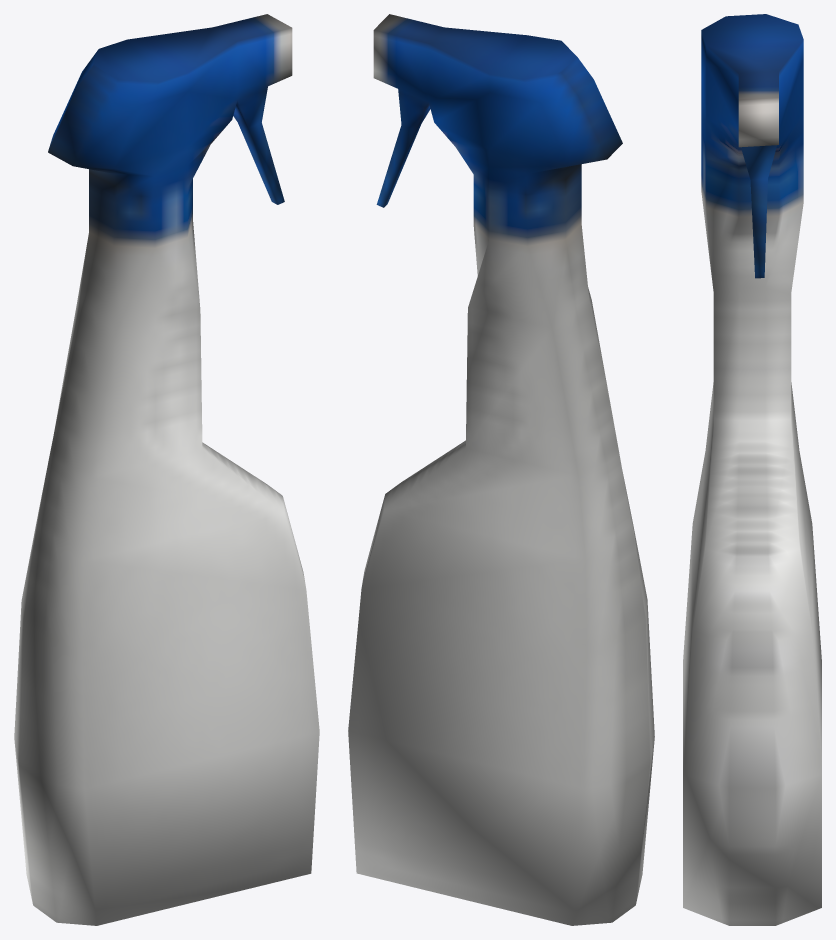
Rendered from Cleaning_spray_2.fbx.
3 renders of one model, left to right at view 1: azimuth 30°, elevation 25°; view 2: azimuth 150°, elevation 25°; view 3: azimuth 270°, elevation 25°, orthographic.
Parts seen in each view (by area): view 1: Cleaning_spray_2; view 2: Cleaning_spray_2; view 3: Cleaning_spray_2.
Boxes of the visible parts, x1,y1,x2,y2 form: Cleaning_spray_2: [14, 14, 319, 925]; Cleaning_spray_2: [348, 14, 654, 925]; Cleaning_spray_2: [683, 14, 821, 925].
Bounding box in the file's own units: 0.0328 × 0.0958 × 0.0147.
